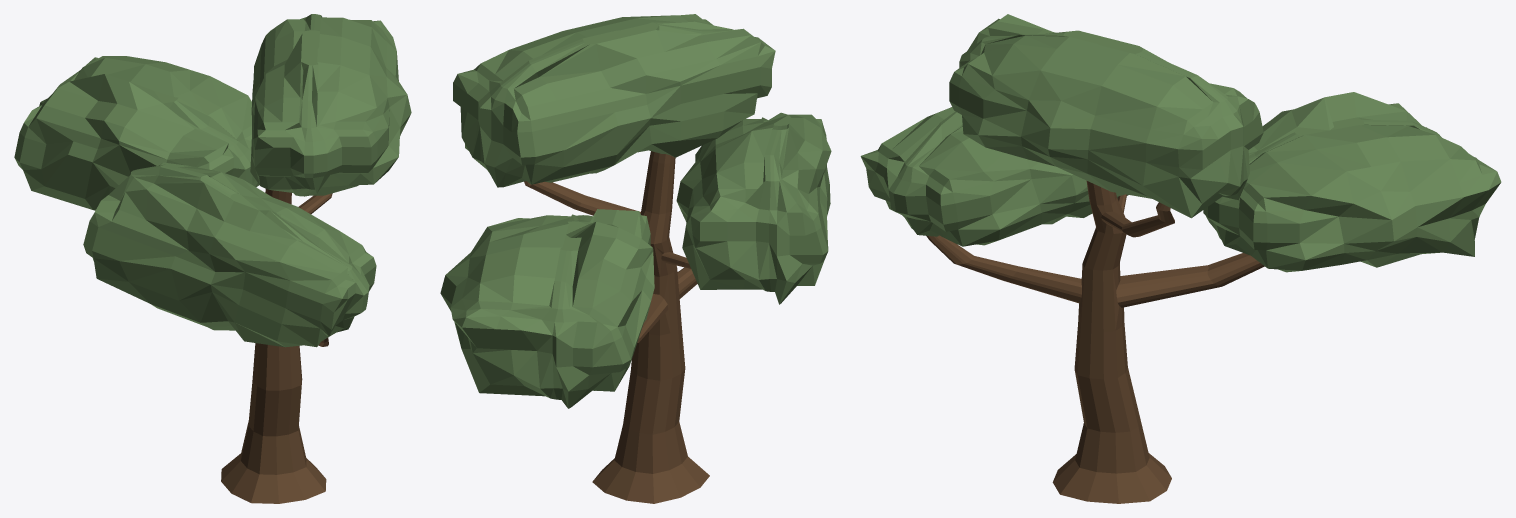
The model's file is Trees6.fbx.
3 renders of one model, left to right at view 1: azimuth 30°, elevation 25°; view 2: azimuth 150°, elevation 25°; view 3: azimuth 270°, elevation 25°, orthographic. The views are drawn at different scales.
Parts seen in each view (by area): view 1: Leaves6, Trunk6; view 2: Leaves6, Trunk6; view 3: Leaves6, Trunk6.
Part boxes in pixels (x1,y1,x2,y2): Leaves6: (14,14,411,347); Trunk6: (221,189,332,503); Leaves6: (440,14,831,408); Trunk6: (524,151,709,503); Leaves6: (860,14,1501,272); Trunk6: (926,181,1264,503).
Size of the model in its own units: 2926 by 3594 by 4582.
